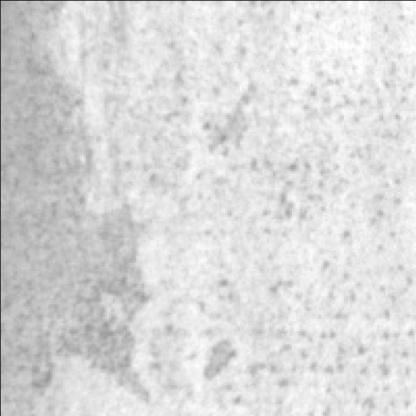pitted_surface: (154, 2, 416, 416), (2, 2, 152, 416)
